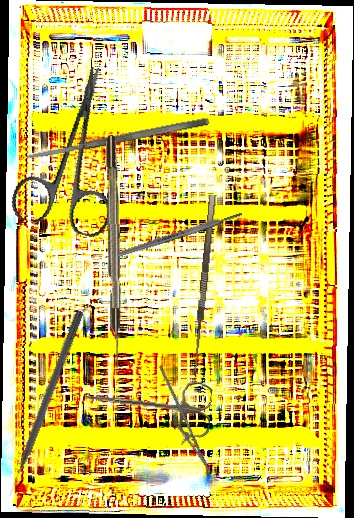Hook Surgical: (190, 194, 226, 379), (105, 135, 123, 370)
Iris Scissors: (7, 55, 148, 241), (84, 372, 214, 439)
Needle Holder: (139, 364, 222, 475)
Pusher: (3, 309, 85, 498)
Scalpel Handle: (116, 210, 243, 259)
Spatula Surgical: (24, 116, 211, 162)
